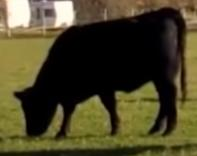cow: (20, 7, 182, 140)
